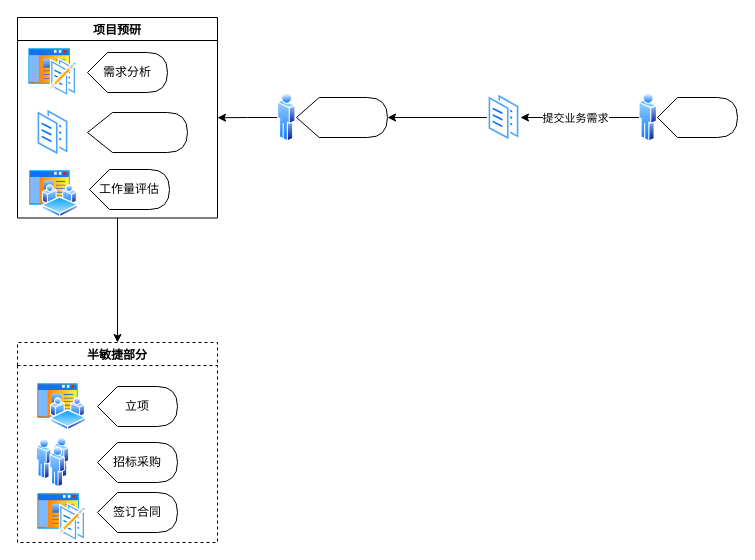
Some shapes in this 755 by 560 pixel diagram are drawn without their labels. The centre of each missing label's shape, as x and y in pixels:
"业务需求说明书" goes at point (137, 132).
"个金小微" goes at point (697, 117).
"科技产品经理" goes at point (342, 117).
